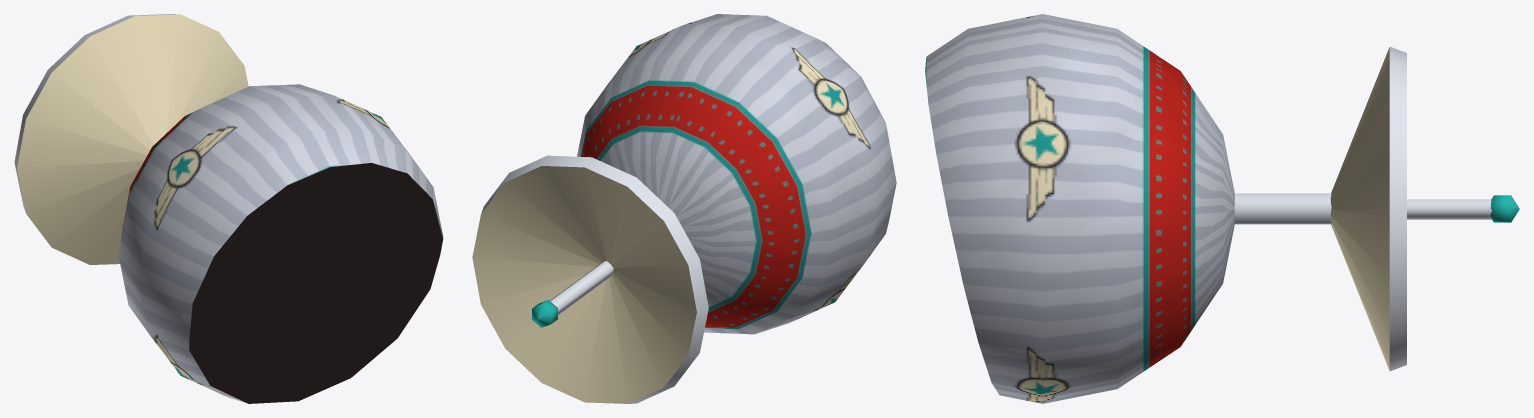
The model's file is sky_eye_probe_debris1.obj.
3 views of the same model, side by side, from view 1: azimuth 30°, elevation 25°; view 2: azimuth 150°, elevation 25°; view 3: azimuth 270°, elevation 25° (orthographic). The views are drawn at different scales.
Parts seen in each view (by area): view 1: body, dish; view 2: body, dish, feed, feed_tip; view 3: body, dish, dish_stem, feed, feed_tip.
Part boxes in pixels (box(x1,y1,x2,y2)): body: box(118, 84, 443, 403); dish: box(14, 14, 248, 264); body: box(577, 14, 896, 334); dish: box(472, 155, 708, 403); feed: box(550, 261, 613, 315); feed_tip: box(532, 300, 557, 327); body: box(925, 14, 1234, 403); dish: box(1330, 46, 1406, 371); dish_stem: box(1234, 193, 1331, 224); feed: box(1407, 199, 1491, 219); feed_tip: box(1490, 195, 1519, 222).
Size of the model in its own units: 1.8 by 1.8 by 2.74.
5 materials, 1 textured.
